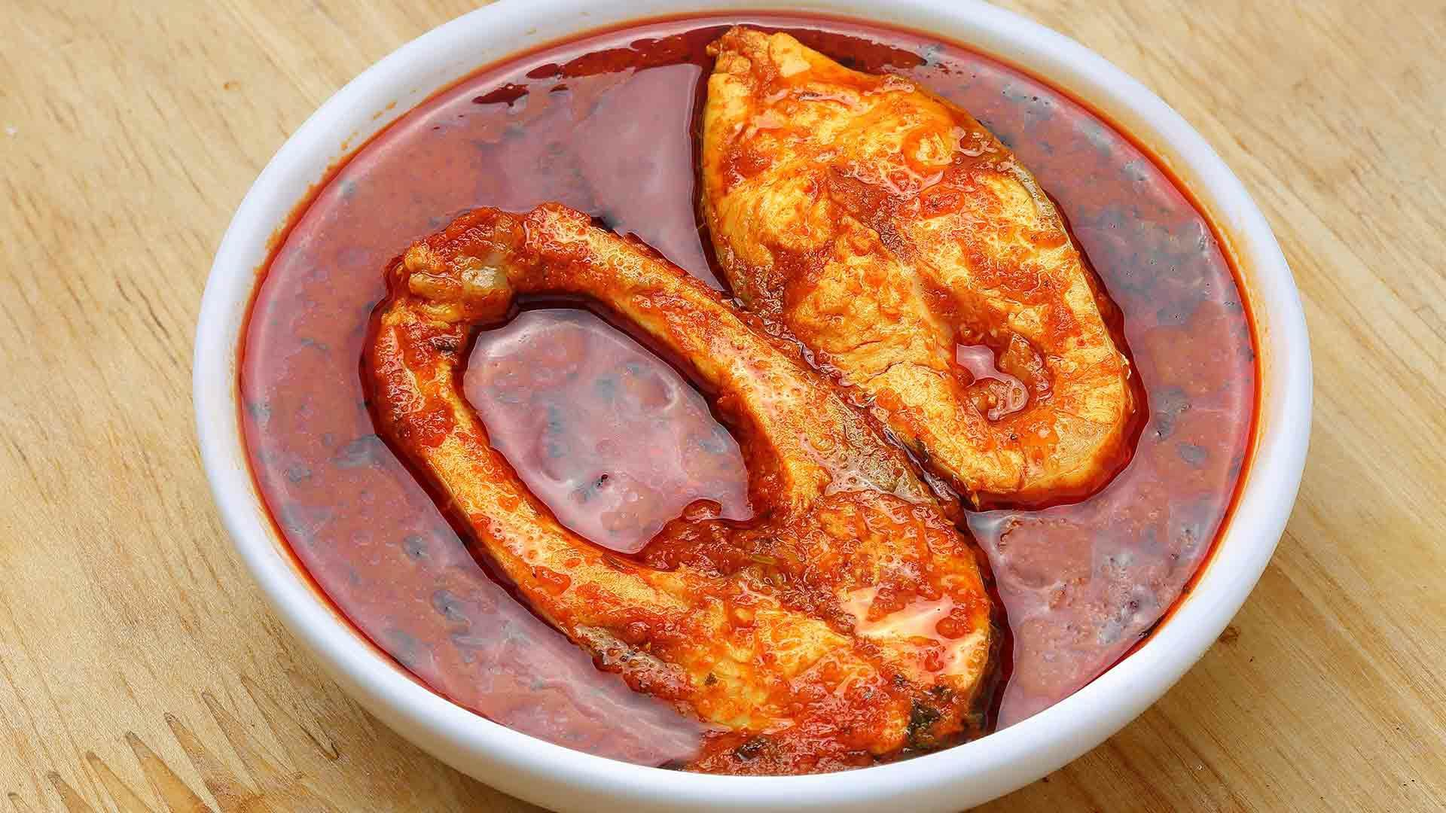FishCurry: (239, 11, 1251, 777)
